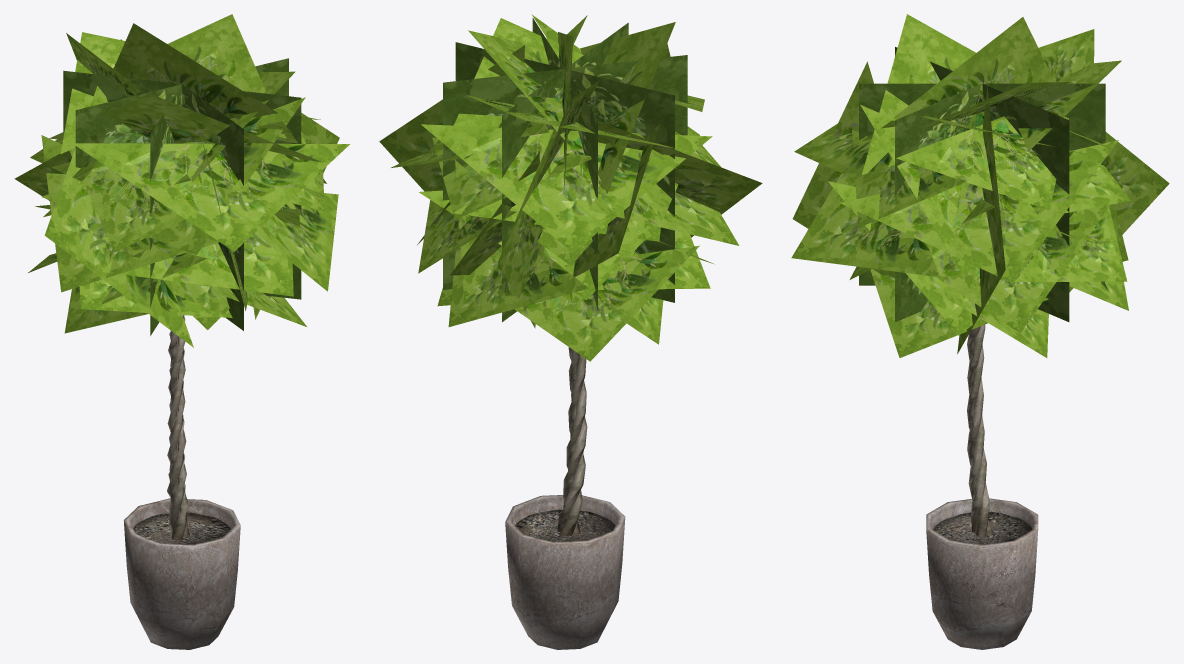
The model's file is Furniture_foliageplant_07_LOD1 #39144.fbx.
3 views of the same model, side by side, from view 1: azimuth 30°, elevation 25°; view 2: azimuth 150°, elevation 25°; view 3: azimuth 270°, elevation 25° (orthographic). The views are drawn at different scales.
Parts seen in each view (by area): view 1: F_foliageplant_07_M, F_foliageplant_07_M1; view 2: F_foliageplant_07_M, F_foliageplant_07_M1; view 3: F_foliageplant_07_M, F_foliageplant_07_M1.
Part boxes in pixels (x1=…): F_foliageplant_07_M: x1=14, y1=14, x2=349, y2=347; F_foliageplant_07_M1: x1=123, y1=315, x2=240, y2=649; F_foliageplant_07_M: x1=379, y1=14, x2=762, y2=361; F_foliageplant_07_M1: x1=505, y1=347, x2=625, y2=649; F_foliageplant_07_M: x1=791, y1=14, x2=1169, y2=357; F_foliageplant_07_M1: x1=926, y1=324, x2=1038, y2=649.
Bounding box in the file's own units: 1.18 × 2.03 × 1.15.
2 materials, 2 textured.
